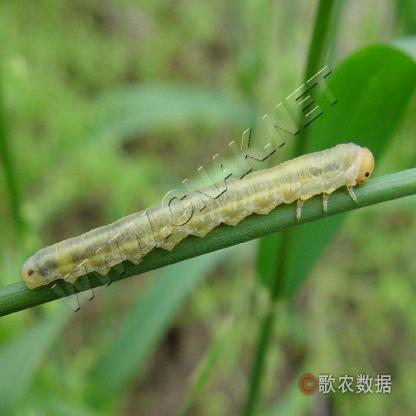sawfly: (22, 140, 376, 299)
